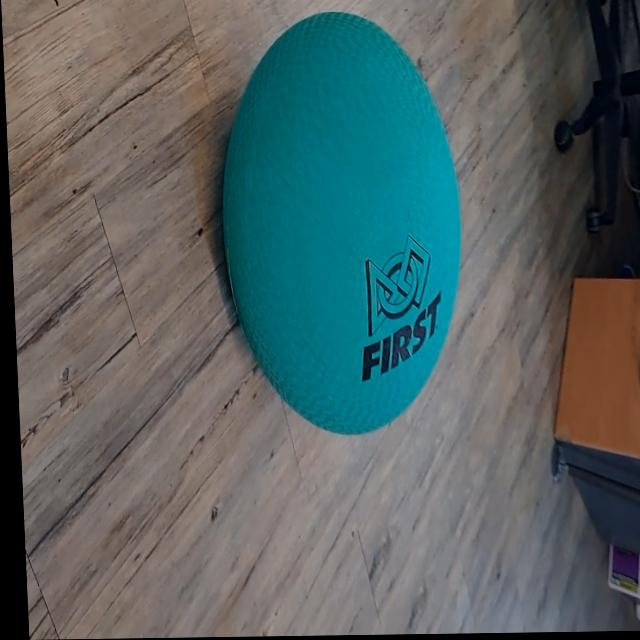ALGAE: (211, 7, 472, 439)
